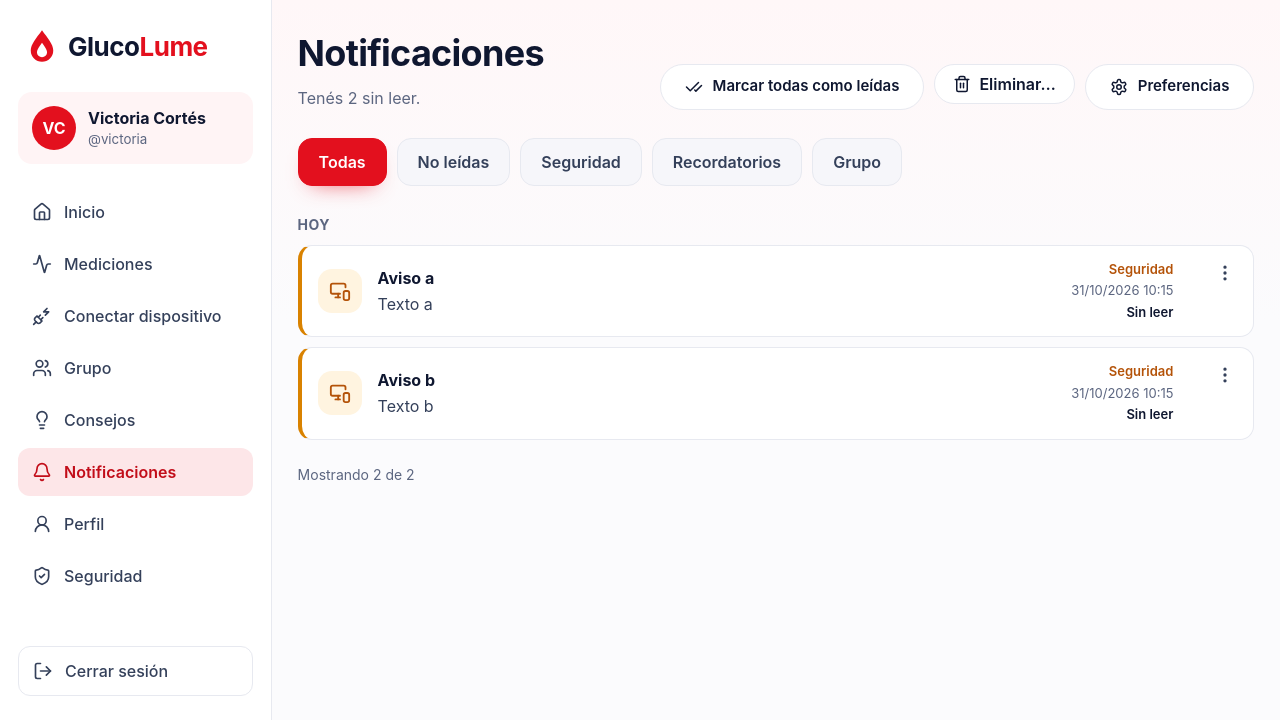
Test: Bandeja de notificaciones › un aviso con un destino no autorizado se marca como leído pero no navega
Click the button "Aviso a Texto a Seguridad 31/10/2026 10:15 Sin leer".
click(340, 291)  # box [298, 245, 1254, 337]
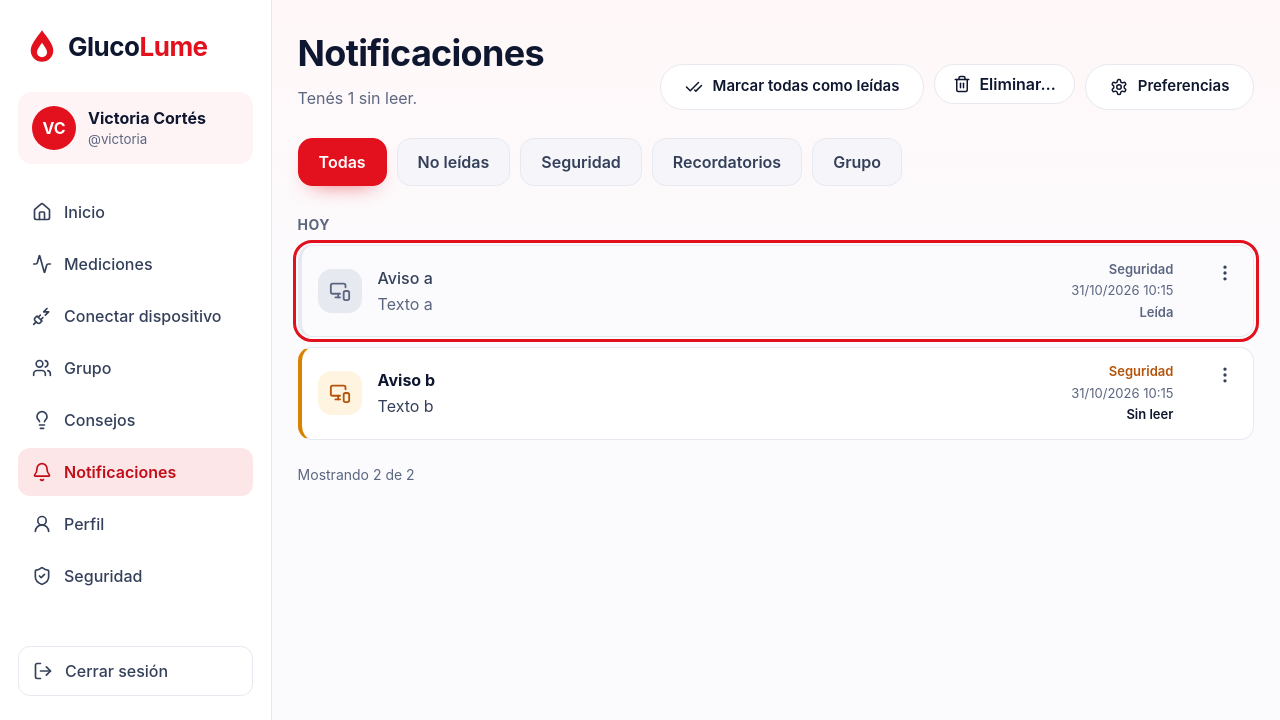
Expected: the heading "Notificaciones" is shown, [298, 31, 544, 75]
Expected: the text "Tenés 1 sin leer." is shown, [298, 88, 417, 108]
Expected: the text "Leída" is shown, [1139, 303, 1173, 322]
